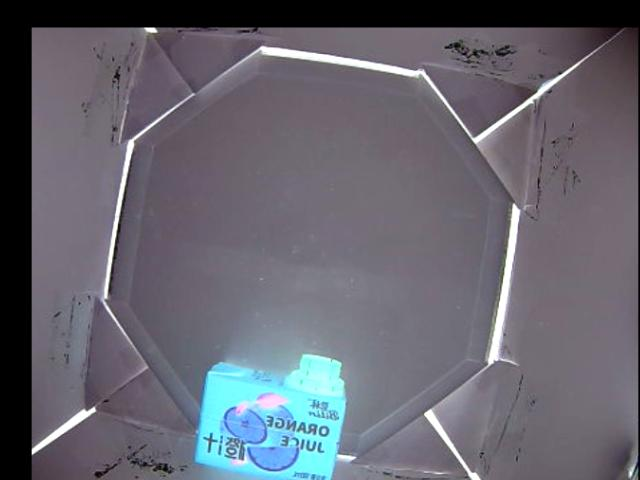Bottle: (190, 354, 346, 480)
